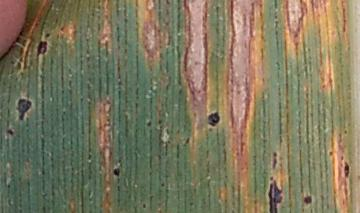tarspot: (269, 178, 284, 213), (16, 97, 31, 120), (207, 111, 219, 127), (38, 40, 48, 55), (342, 161, 350, 179), (112, 165, 121, 178), (304, 195, 313, 206), (271, 158, 278, 170), (6, 127, 15, 136), (144, 118, 152, 127), (156, 117, 164, 125), (342, 128, 349, 136), (44, 31, 51, 38), (141, 202, 147, 208), (328, 150, 334, 156), (160, 182, 165, 188), (272, 152, 278, 157)
